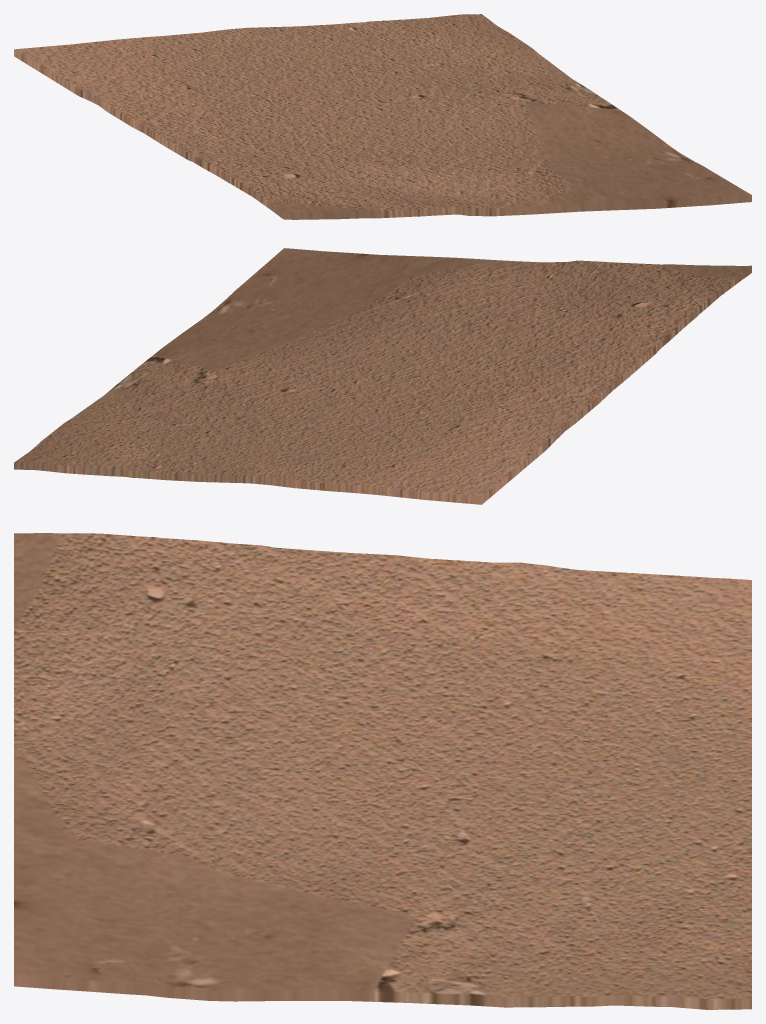
The picture shows the model from 3 angles, top to bottom: view 1: azimuth 30°, elevation 25°; view 2: azimuth 150°, elevation 25°; view 3: azimuth 270°, elevation 25°; orthographic projection. The views are drawn at different scales.
Size of the model in its own units: 1 by 0.2467 by 1.
1 material, 1 textured.
